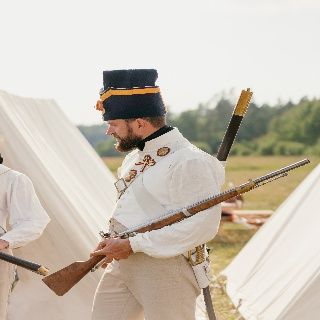rifle: (40, 157, 311, 299)
